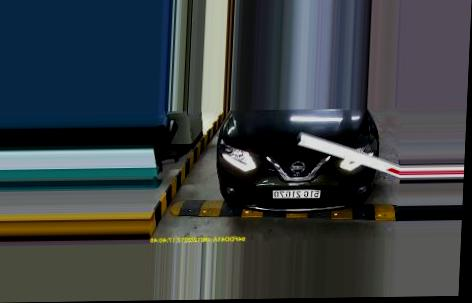License_Plate: (272, 186, 325, 200)
